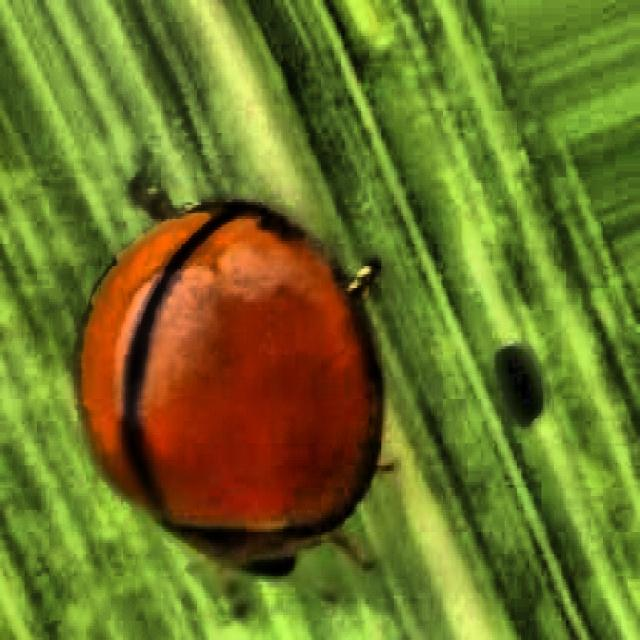Ladybug: (38, 167, 379, 600)
